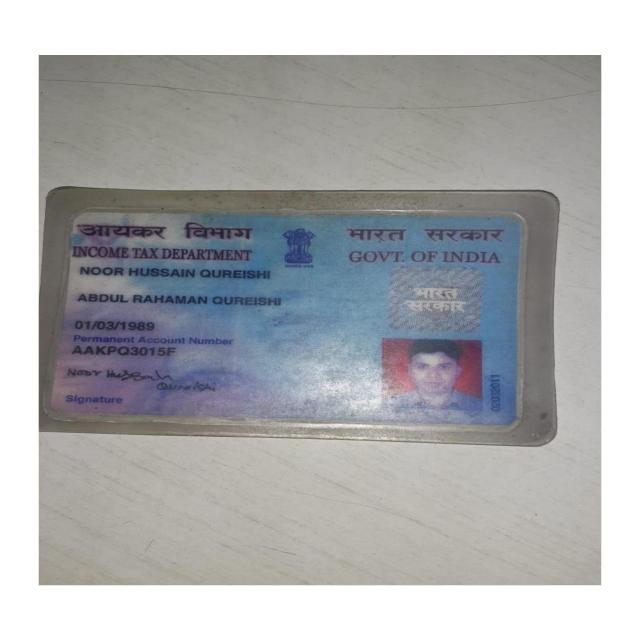pan_card: (43, 213, 519, 422)
